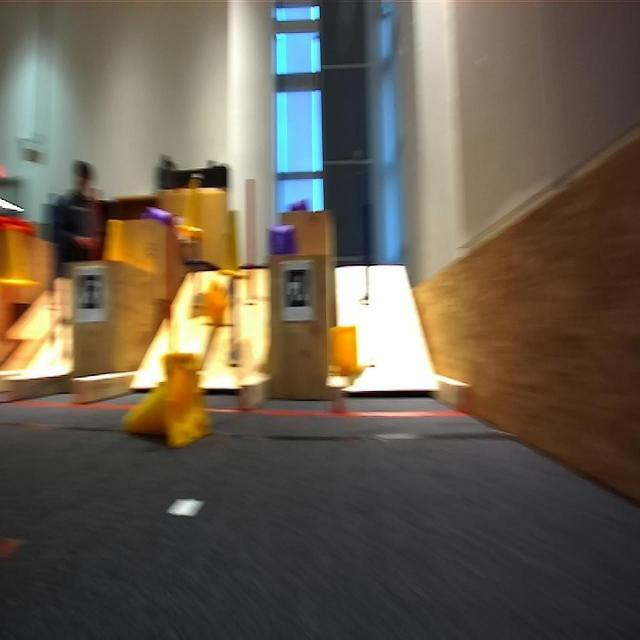frc_cone: (122, 348, 210, 451), (0, 222, 40, 290), (212, 206, 244, 283), (328, 323, 362, 385), (176, 174, 204, 238), (204, 281, 232, 330), (102, 216, 127, 263)
frc_cube: (264, 221, 292, 258), (144, 202, 173, 222), (290, 198, 310, 215)
